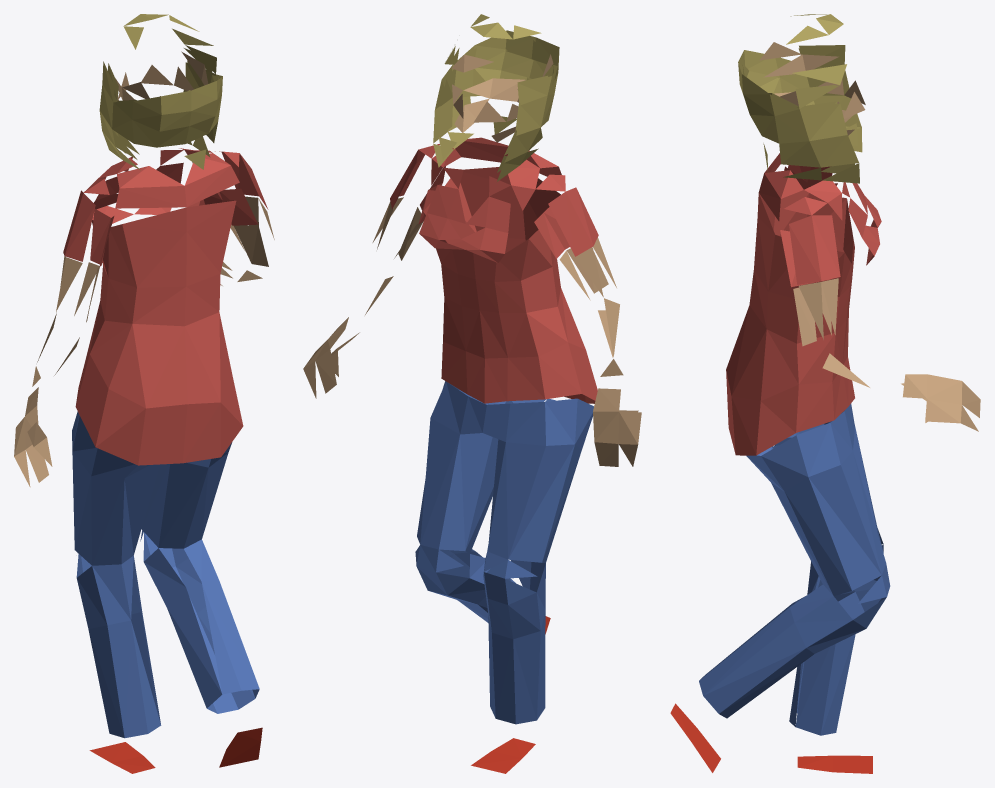
File: personfar_6_w2.fbx
3 renders of one model, left to right at view 1: azimuth 30°, elevation 25°; view 2: azimuth 150°, elevation 25°; view 3: azimuth 270°, elevation 25°, orthographic. The views are drawn at different scales.
Visible parts, largest first — view 1: Woman; view 2: Woman; view 3: Woman.
Boxes of the visible parts, <box> form: Woman: <box>14,14,274,773</box>; Woman: <box>303,14,641,773</box>; Woman: <box>670,14,980,773</box>.
Bounding box in the file's own units: 0.3891 × 1 × 0.3722.
